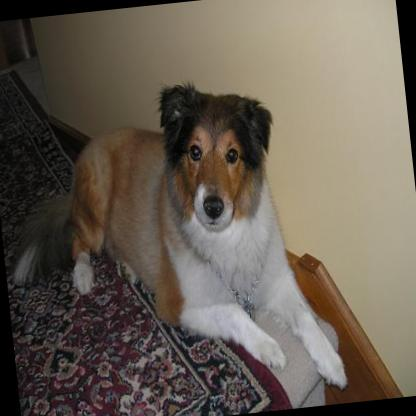collie: (0, 64, 349, 416)
